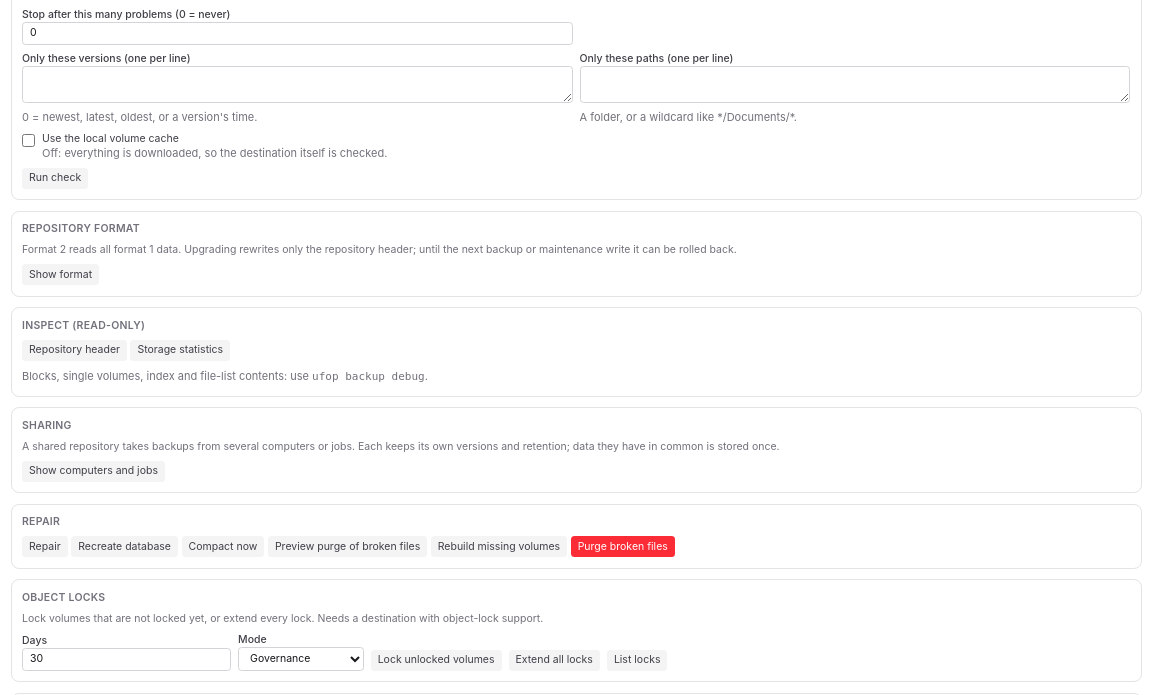
Test: inspection tools › runs the read-only inspect operations from maintenance
The image size is (1152, 695).
(page scrolled)
Click the button with test id "backup-op-inspect_stats": (180, 350) [130,340,230,361]
(page scrolled)
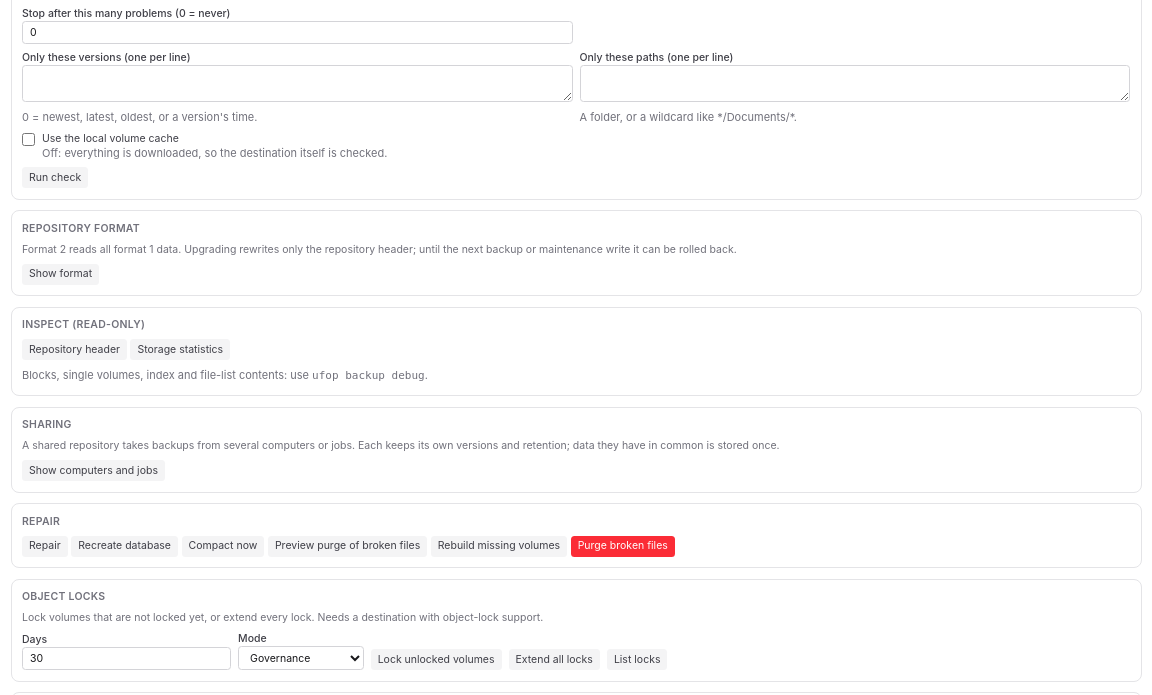
Click the button with test id "backup-op-inspect_header": (74, 350) [22,339,127,360]
(page scrolled)
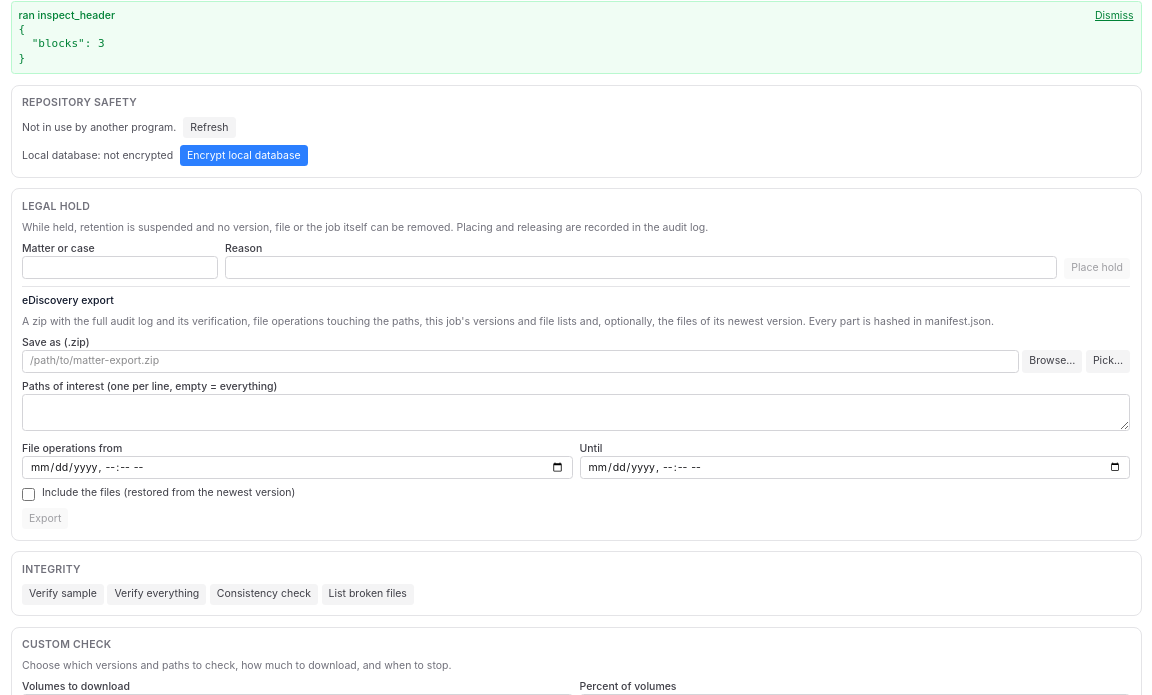
Now the text "ran inspect_header" is shown, box [18,8,115,22]
